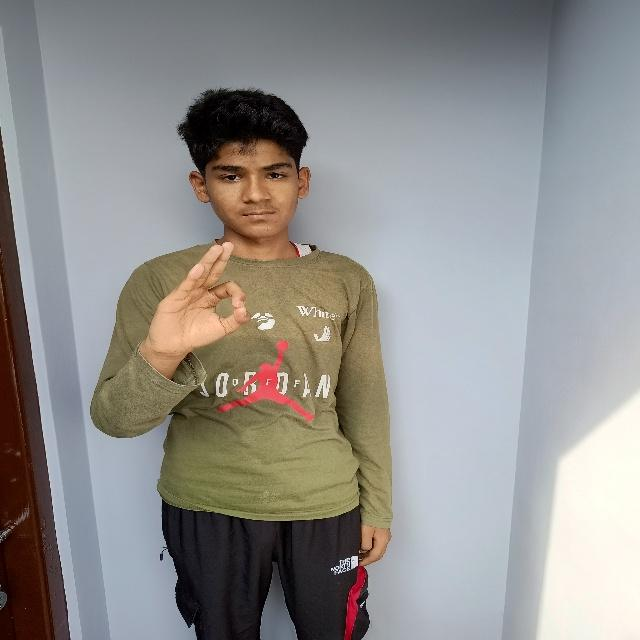Okay: (136, 235, 268, 371)
